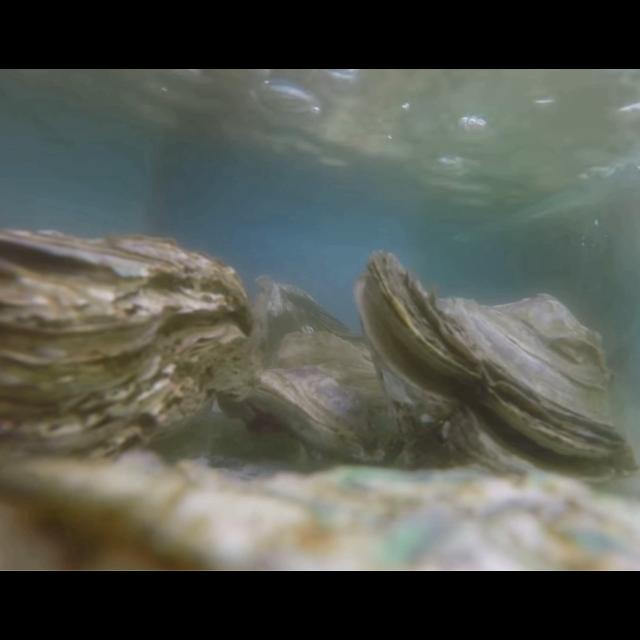Oyster-Closed: (1, 227, 256, 485), (256, 327, 414, 467)
Oyster-Indeterminate: (0, 451, 640, 572), (254, 270, 370, 360)
Oyster-Open: (356, 252, 640, 494)
